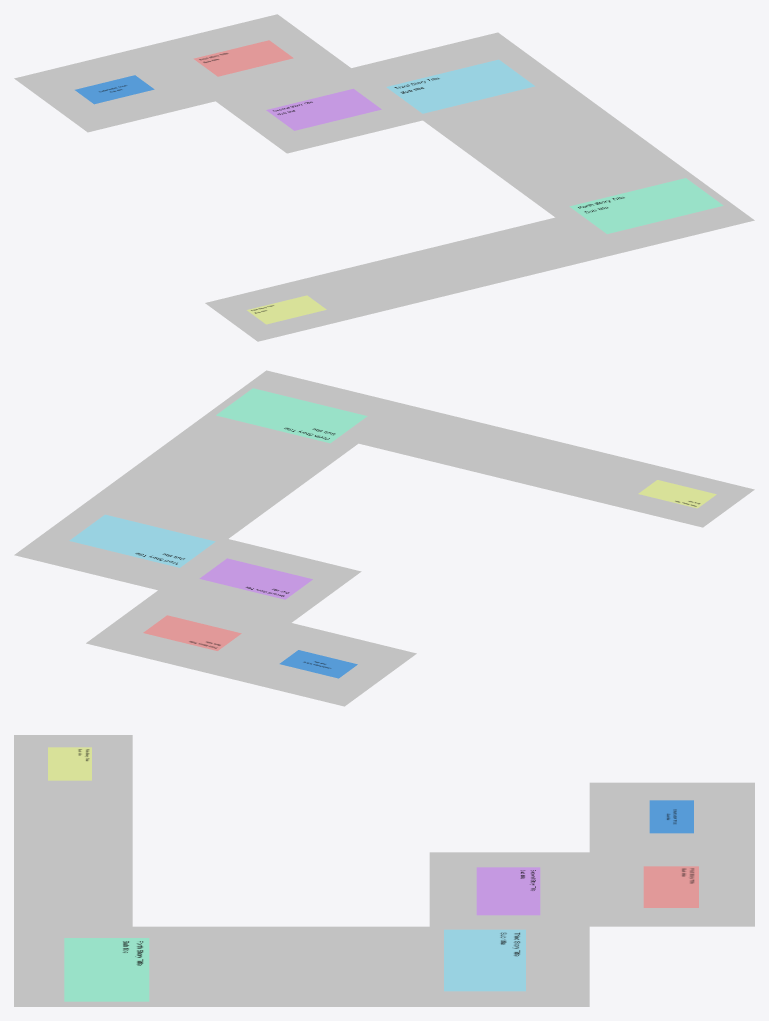
Rendered from glb-world.glb.
3 views of the same model, one above another, from view 1: azimuth 30°, elevation 25°; view 2: azimuth 150°, elevation 25°; view 3: azimuth 270°, elevation 25° (orthographic). The views are drawn at different scales.
Visible parts, largest first — view 1: floor, s4_2x, s3_2x, s2_2x, s1_2x, hero_2x, s5_2x; view 2: floor, s4_2x, s3_2x, s2_2x, s1_2x, s5_2x, hero_2x; view 3: floor, s4_2x, s3_2x, s2_2x, s1_2x, hero_2x, s5_2x.
Part boxes in pixels (<box>): floor: <box>14,14,754,341</box>; s4_2x: <box>569,178,723,233</box>; s3_2x: <box>386,59,534,113</box>; s2_2x: <box>266,88,381,130</box>; s1_2x: <box>193,40,293,76</box>; hero_2x: <box>75,75,154,104</box>; s5_2x: <box>247,295,326,324</box>; floor: <box>14,370,754,706</box>; s4_2x: <box>216,388,367,443</box>; s3_2x: <box>69,514,215,567</box>; s2_2x: <box>199,558,312,599</box>; s1_2x: <box>143,615,241,650</box>; s5_2x: <box>638,480,716,508</box>; hero_2x: <box>279,650,357,678</box>; floor: <box>14,735,754,1006</box>; s4_2x: <box>64,938,149,1001</box>; s3_2x: <box>444,929,525,991</box>; s2_2x: <box>476,867,540,915</box>; s1_2x: <box>643,866,698,907</box>; hero_2x: <box>649,800,693,833</box>; s5_2x: <box>48,747,91,780</box>.
Size of the model in its own units: 117 by 0.1 by 134.
Materials: 6 (6 with a texture image).
